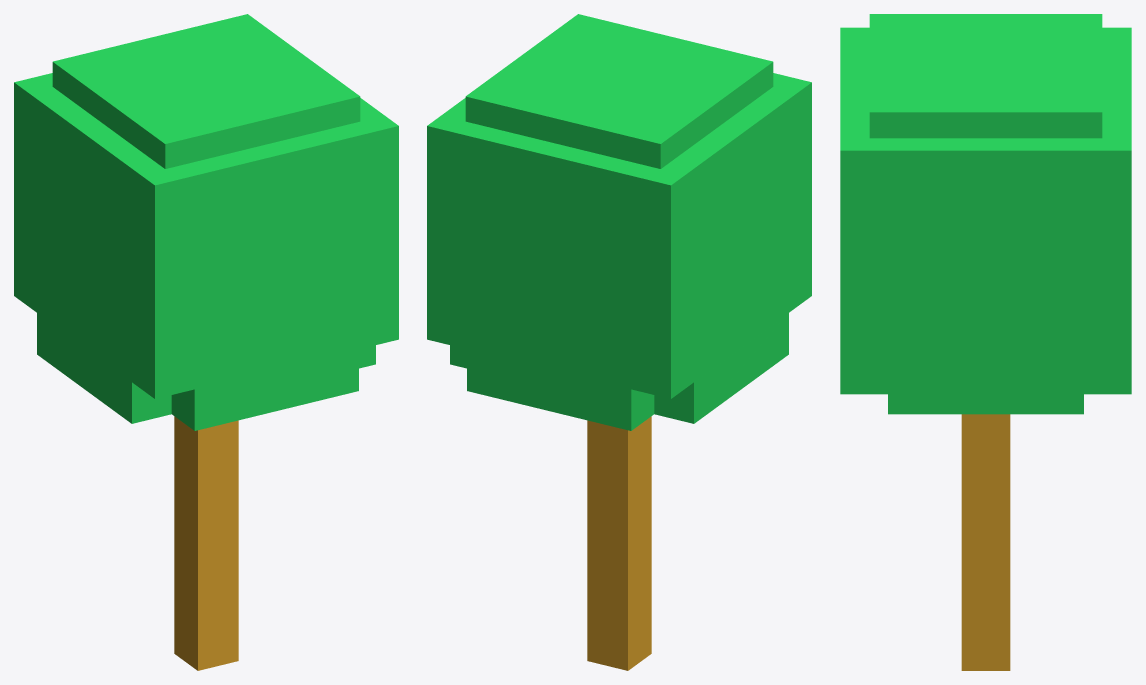
File: tree.dae
The picture shows the model from 3 angles, left to right: view 1: azimuth 30°, elevation 25°; view 2: azimuth 150°, elevation 25°; view 3: azimuth 270°, elevation 25°; orthographic projection. The views are drawn at different scales.
Visible parts, largest first — view 1: Cube, Trunk; view 2: Cube, Trunk; view 3: Cube, Trunk.
Part boxes in pixels (left/top/right/bottom): Cube: left=14, top=14, right=398, bottom=430; Trunk: left=174, top=416, right=238, bottom=670; Cube: left=427, top=14, right=811, bottom=430; Trunk: left=587, top=416, right=651, bottom=670; Cube: left=840, top=14, right=1131, bottom=414; Trunk: left=961, top=414, right=1010, bottom=670.
Bounding box in the file's own units: 3 × 3 × 6.79.
